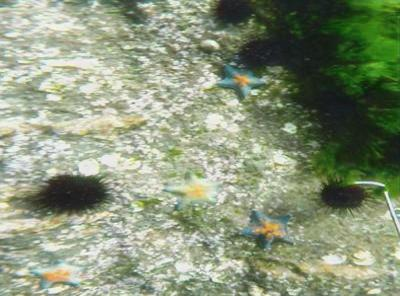urchin: (35, 170, 111, 215), (318, 172, 371, 213), (239, 33, 282, 72), (206, 0, 256, 28)
